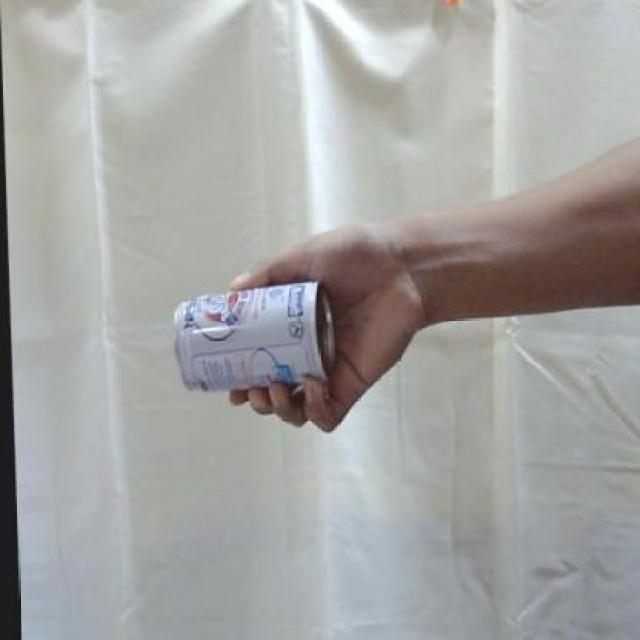Metal: (167, 277, 347, 399)
